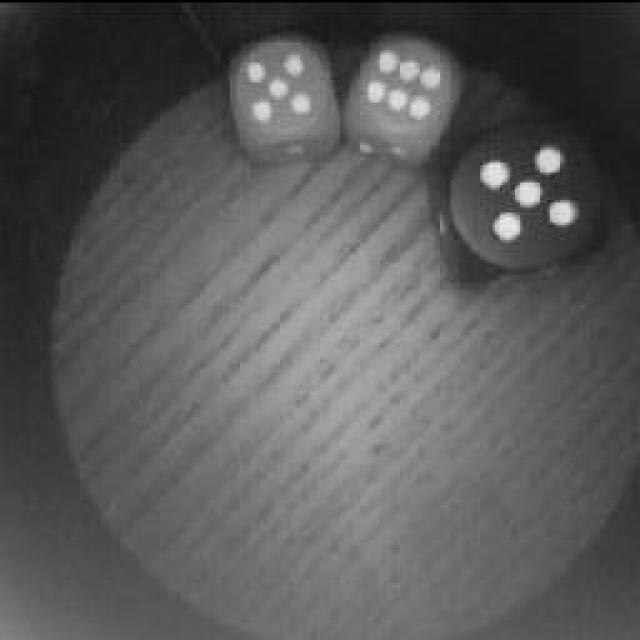dice_5: (432, 117, 610, 285), (222, 32, 340, 152)
dice_6: (350, 32, 465, 150)
